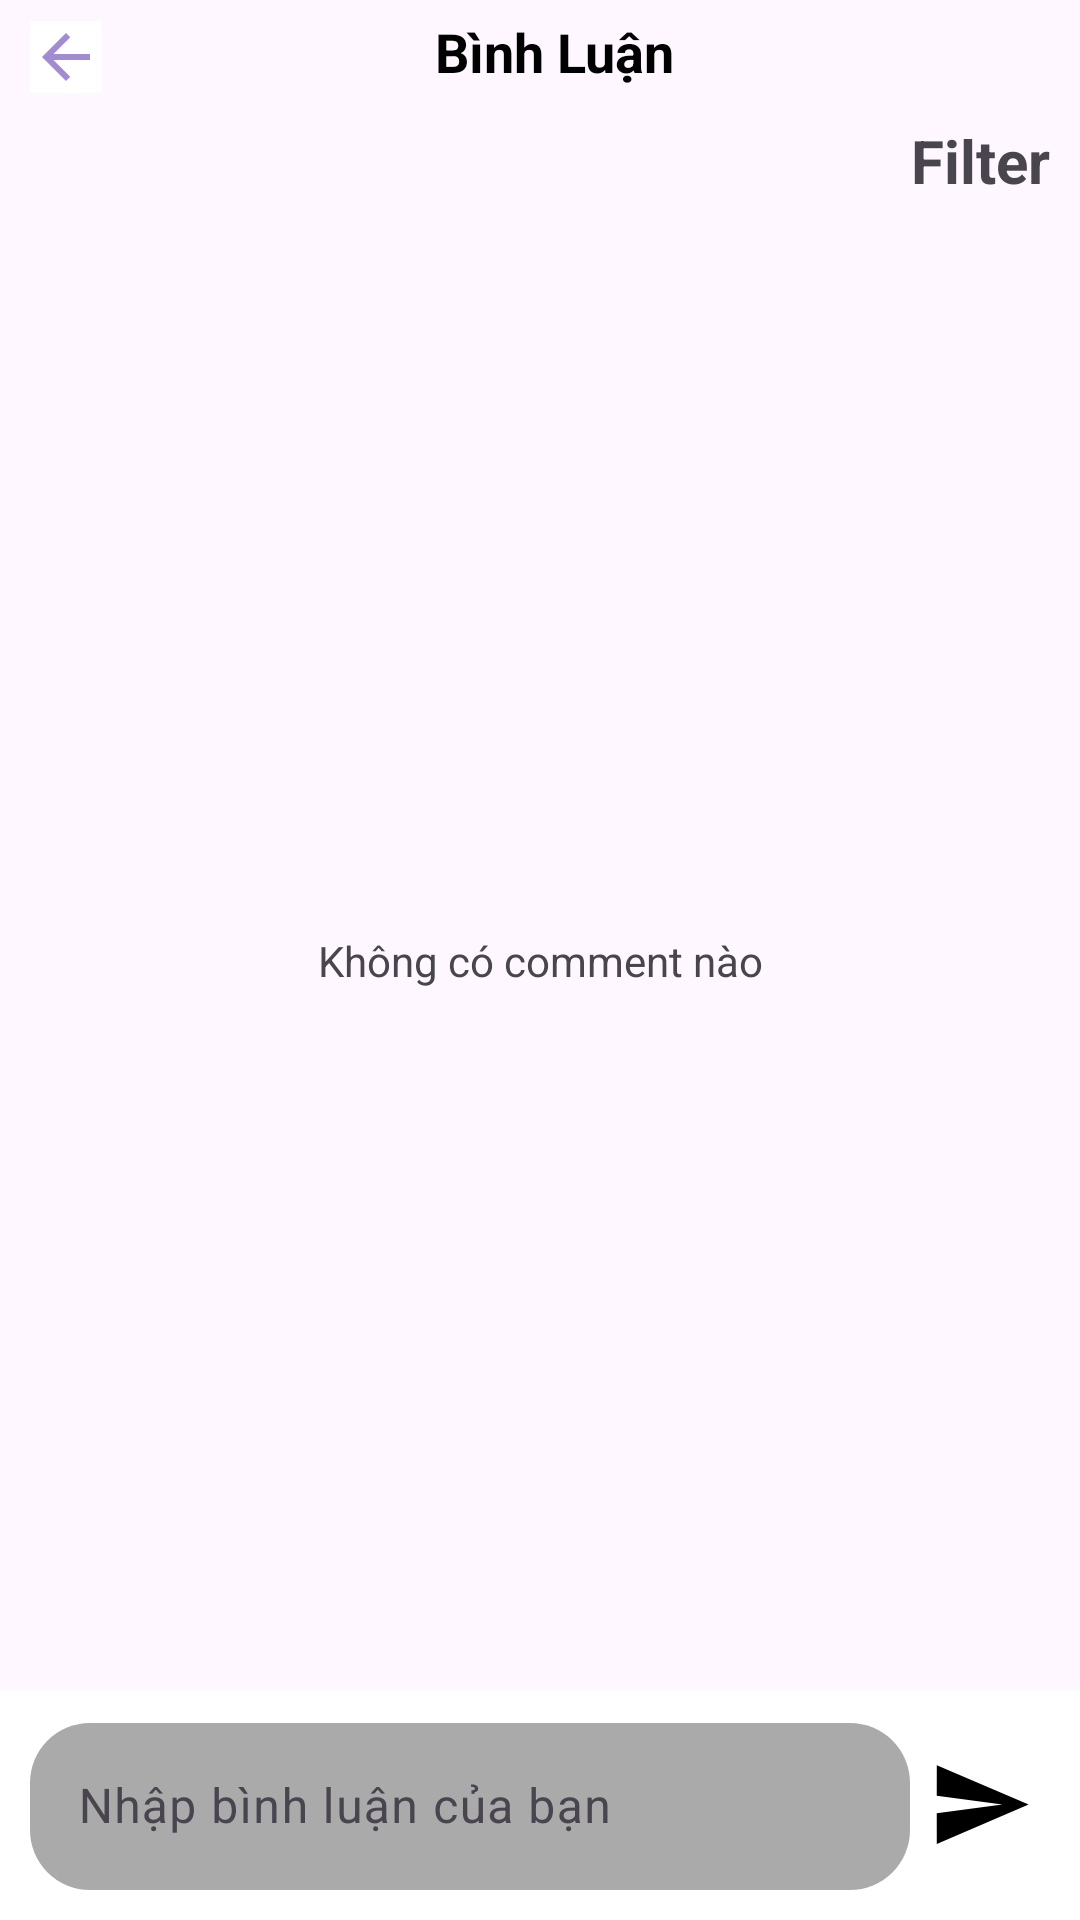

Where to tap for icons on this 1080 × 1920 app screen, as (x,y):
arrow back main: (66,57)
send: (982,1804)
